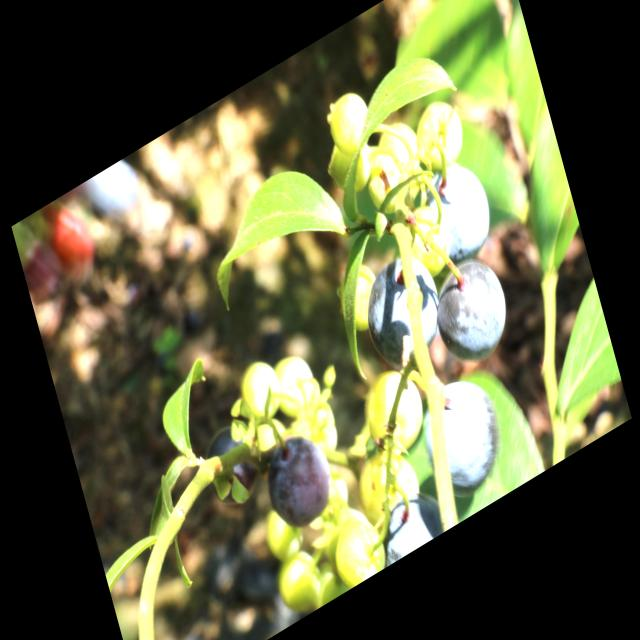blueberry: (412, 362, 508, 511), (354, 241, 448, 382), (426, 247, 518, 382), (254, 420, 343, 549), (414, 148, 499, 278), (197, 411, 267, 520), (371, 474, 450, 568)
blueberry-unripe: (361, 360, 427, 462), (353, 436, 423, 528), (398, 192, 458, 284), (409, 88, 471, 177), (326, 507, 386, 594), (332, 252, 388, 340), (320, 83, 375, 161), (274, 540, 329, 618), (325, 136, 372, 202)
